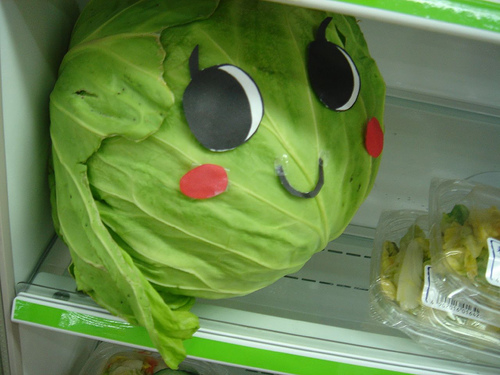cabbage: (47, 1, 389, 373)
